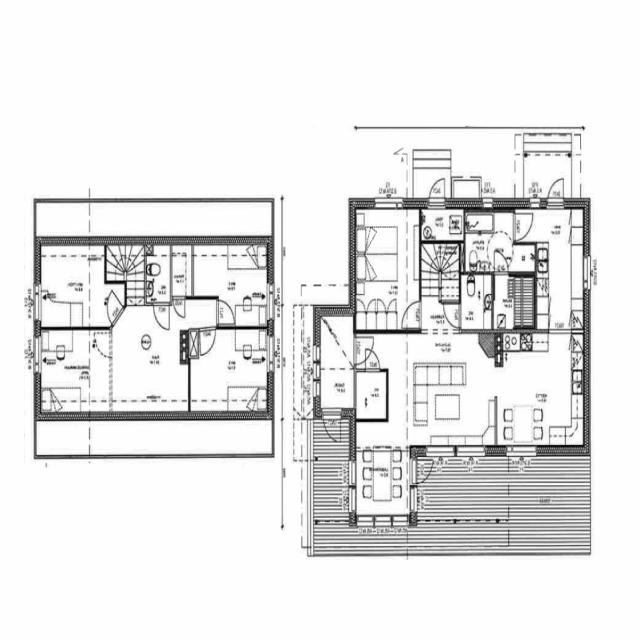door: (101, 290, 124, 326), (324, 408, 341, 445), (514, 213, 534, 241), (410, 459, 432, 484), (548, 174, 564, 208), (354, 337, 374, 364), (402, 302, 422, 328), (429, 174, 444, 208), (200, 326, 217, 354), (443, 304, 461, 328), (216, 300, 234, 324), (154, 302, 169, 328), (495, 250, 508, 276), (366, 348, 380, 372), (173, 296, 185, 318)
